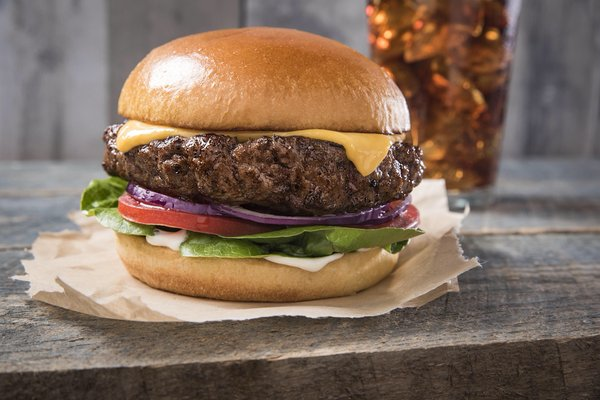soup: (79, 25, 433, 303)
